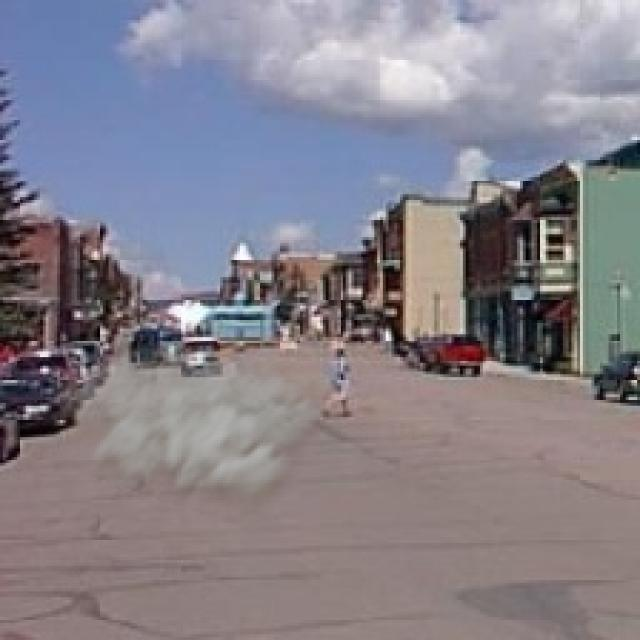smoke: (52, 328, 334, 528)
